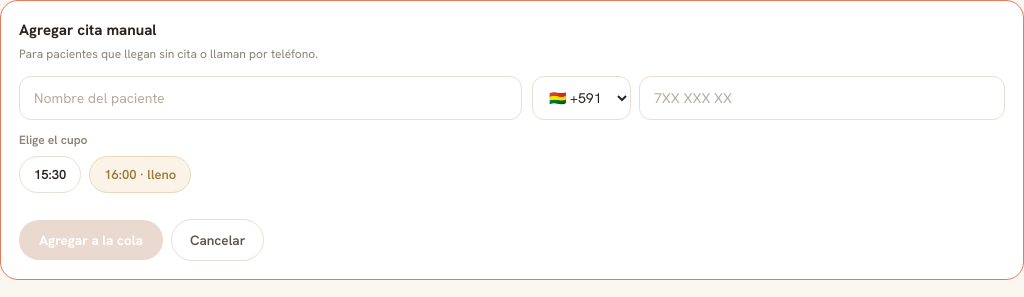
Test: ManualAppointmentForm › disables submit until name, phone, and a slot are chosen
The image size is (1024, 297).
Expected: the button "Agregar a la cola" is disabled, [19,220,163,260]
Type "Juana Pérez" into the field with placeholder "Nombre del paciente".
click(270, 98); type("Juana Pérez")  # box [19,76,522,120]
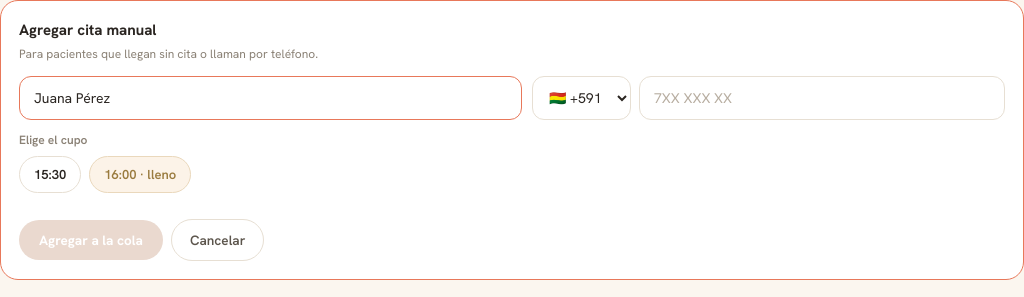
Type "71234567" into the field with placeholder "7XX XXX XX".
click(822, 98); type("71234567")  # box [639,76,1005,120]
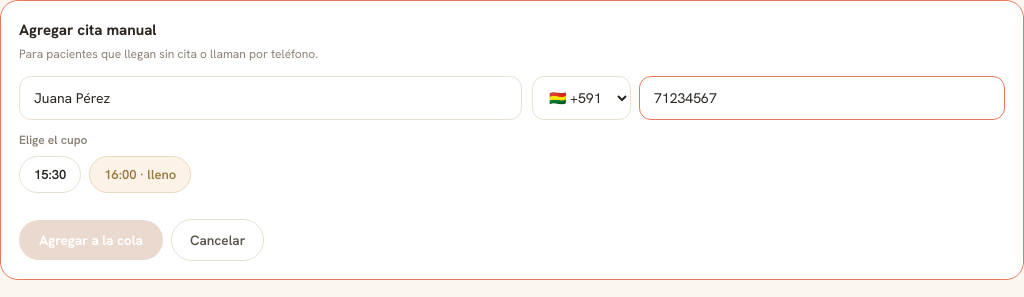
Expected: the button "Agregar a la cola" is disabled, [19,220,163,260]
Click the button "15:30".
click(50, 174)  # box [19,156,81,193]
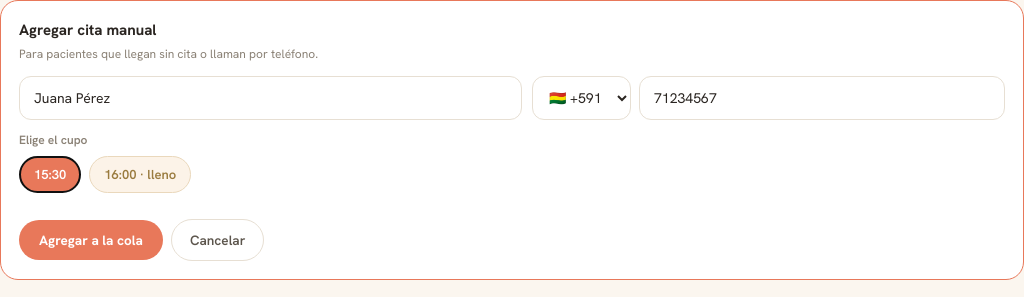
Expected: the button "Agregar a la cola" is enabled, [19,220,163,260]
